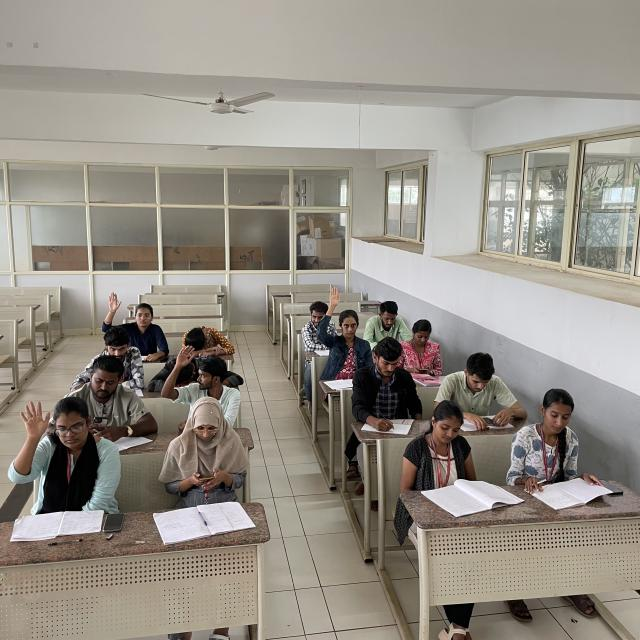Hand Rising: (9, 391, 123, 526), (158, 344, 238, 418), (312, 286, 373, 375), (101, 290, 166, 352)
Reading: (510, 385, 601, 505), (402, 398, 496, 512)
Sleeping: (179, 322, 234, 360), (148, 356, 194, 389)
Using Phone: (158, 398, 254, 510), (75, 353, 156, 442), (449, 348, 528, 428), (399, 318, 447, 378), (364, 297, 411, 344)
Writing: (348, 338, 425, 433)
